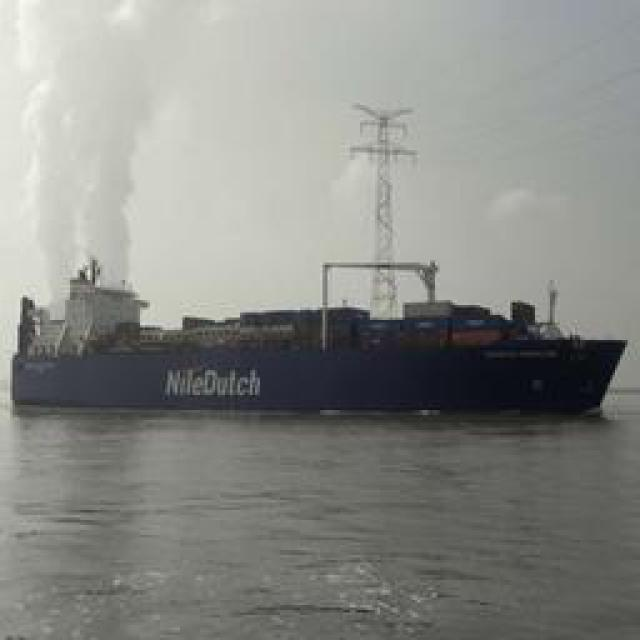Ship: (10, 270, 628, 415)
